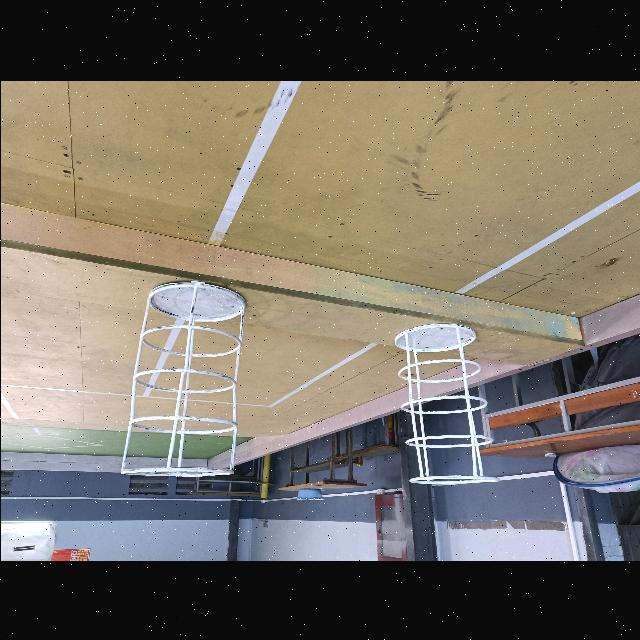S: (120, 278, 246, 477), (393, 322, 495, 484)
